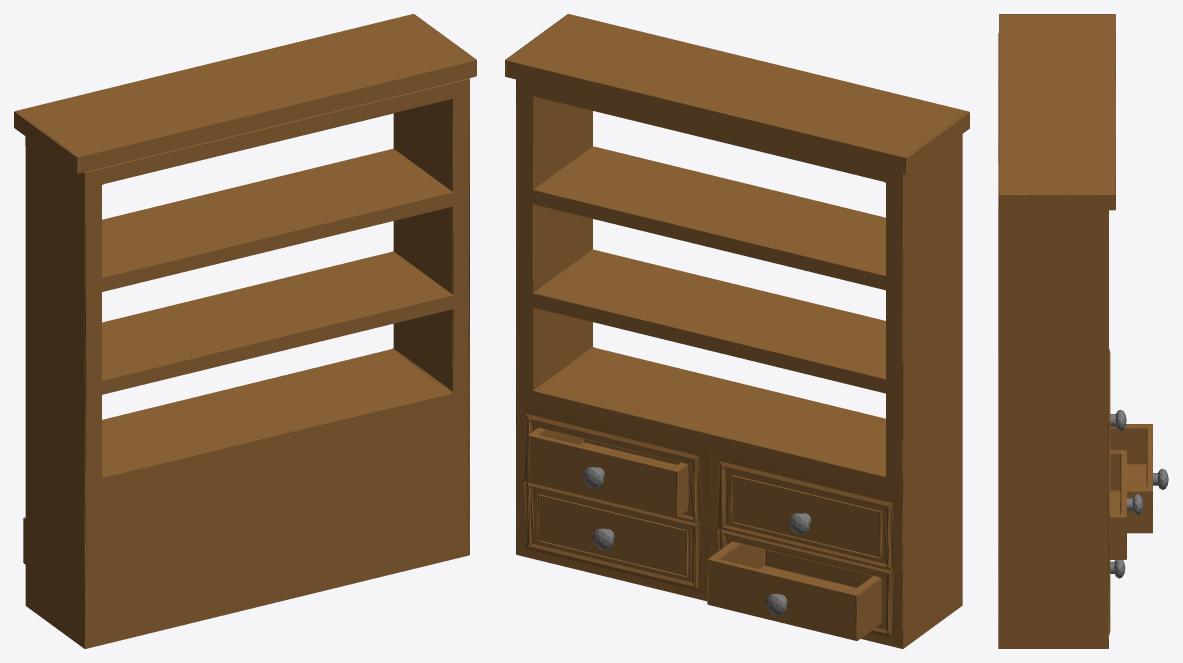
The model's file is shelf.obj.
The picture shows the model from 3 angles, left to right: view 1: azimuth 30°, elevation 25°; view 2: azimuth 150°, elevation 25°; view 3: azimuth 270°, elevation 25°; orthographic projection. The views are drawn at different scales.
Parts seen in each view (by area): view 1: Bookshelf_Cube.016; view 2: Bookshelf_Cube.016; view 3: Bookshelf_Cube.016.
Boxes of the visible parts, <box> form: Bookshelf_Cube.016: <box>14,14,476,648</box>; Bookshelf_Cube.016: <box>505,14,969,648</box>; Bookshelf_Cube.016: <box>998,14,1168,648</box>.
Bounding box in the file's own units: 2.65 × 3.13 × 1.06.
